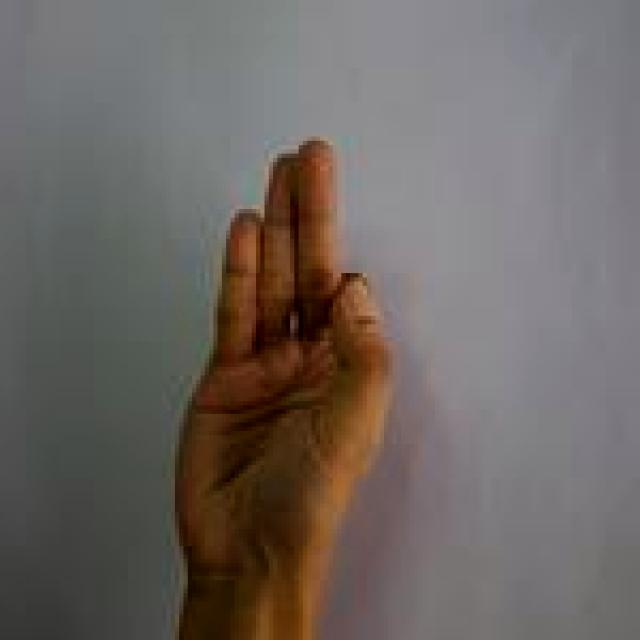F: (170, 136, 402, 640)
